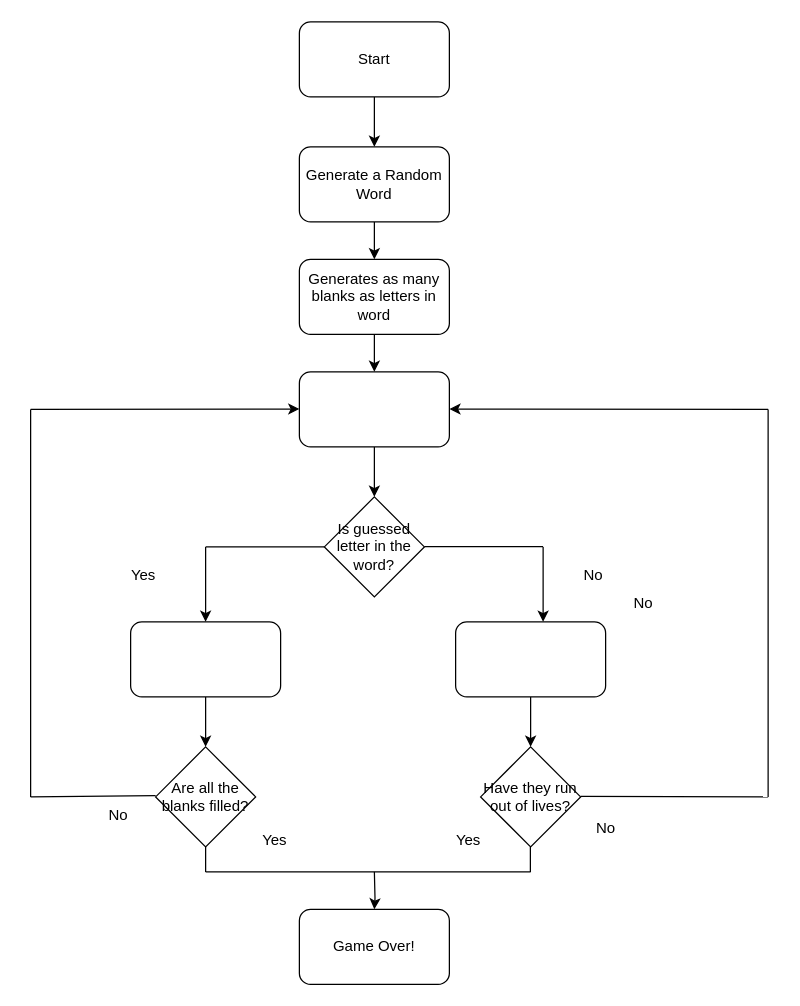
Some shapes in this 800 by 1006 pixel diagram are drawn without their labels. Each missing label, with the box of its shape:
Ask the user to guess a letter: (298, 371, 449, 447)
Loose a life: (454, 621, 606, 697)
Replace the blank with the letter: (129, 621, 281, 697)
